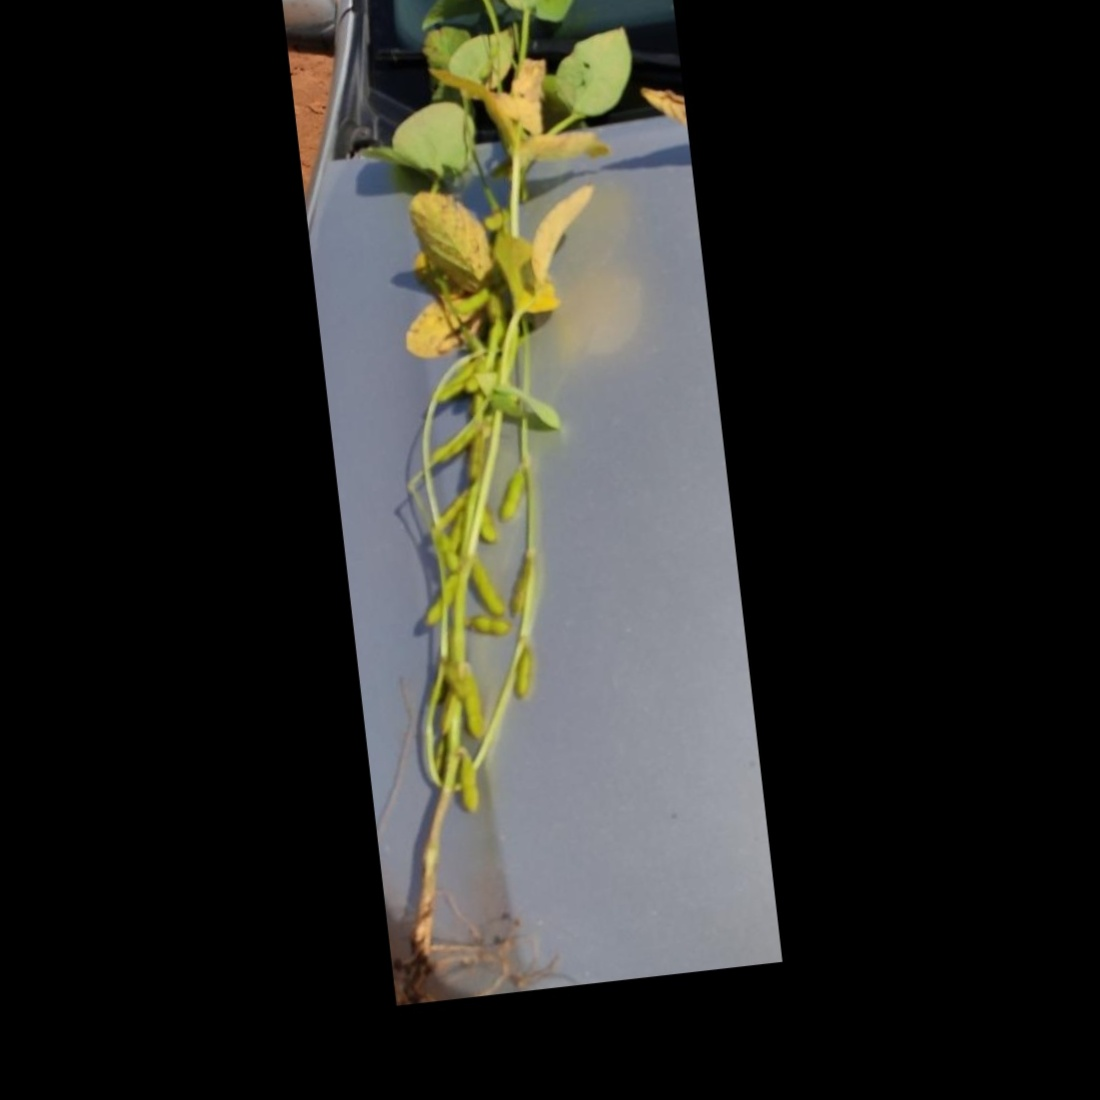pod: (421, 483, 487, 540), (403, 572, 462, 630), (467, 557, 508, 627), (489, 462, 534, 524), (457, 663, 489, 748), (453, 745, 485, 826), (509, 642, 540, 704), (464, 611, 516, 643)
soy: (281, 0, 715, 990)
